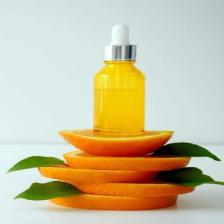orange: (59, 130, 174, 157)
yellow: (94, 61, 144, 132)
